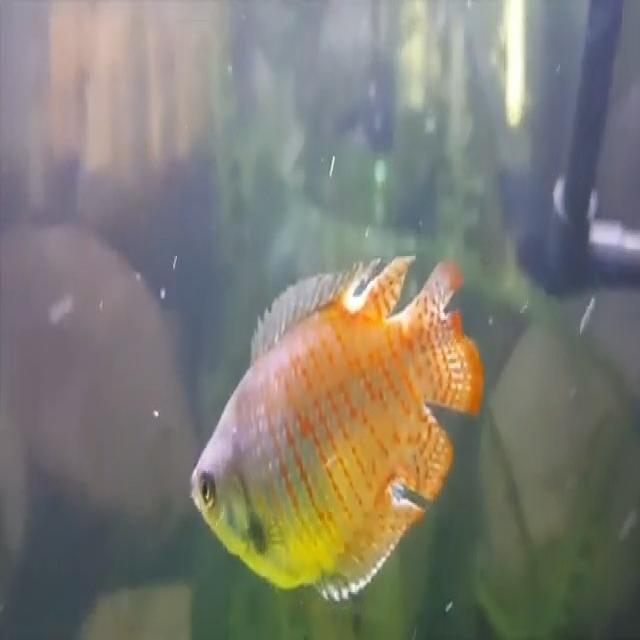fish: (188, 253, 486, 602)
